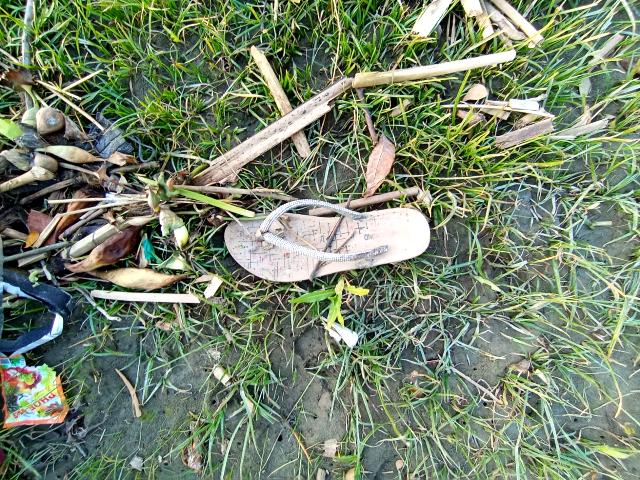sandal: (220, 175, 452, 287)
